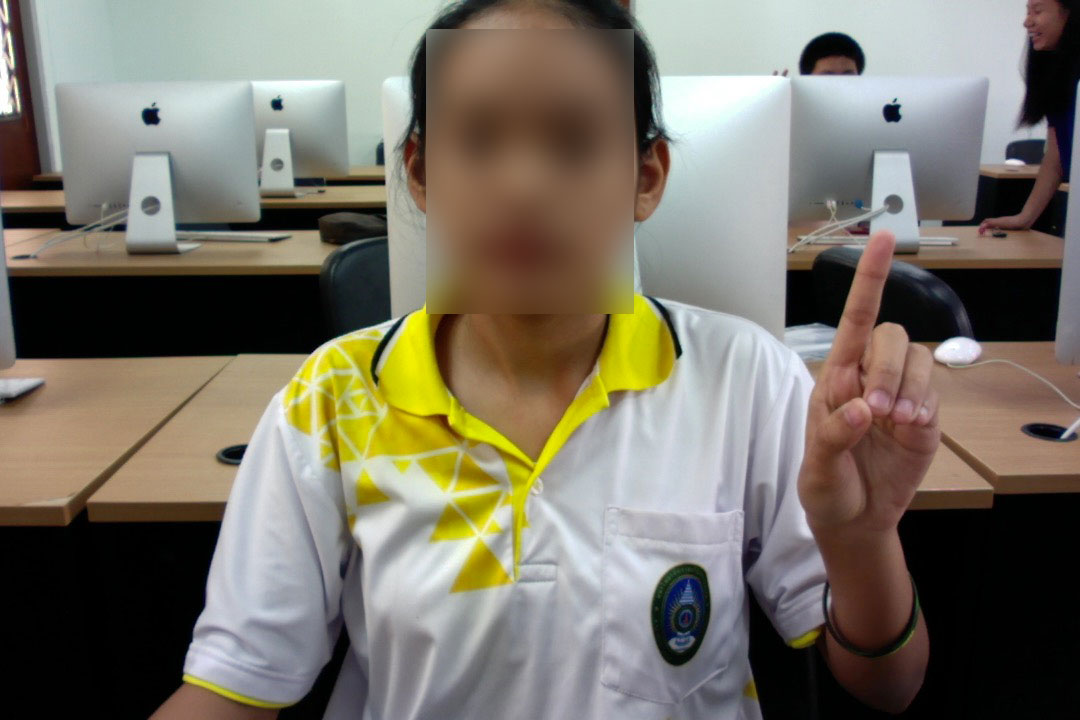dor: (791, 222, 953, 547)
